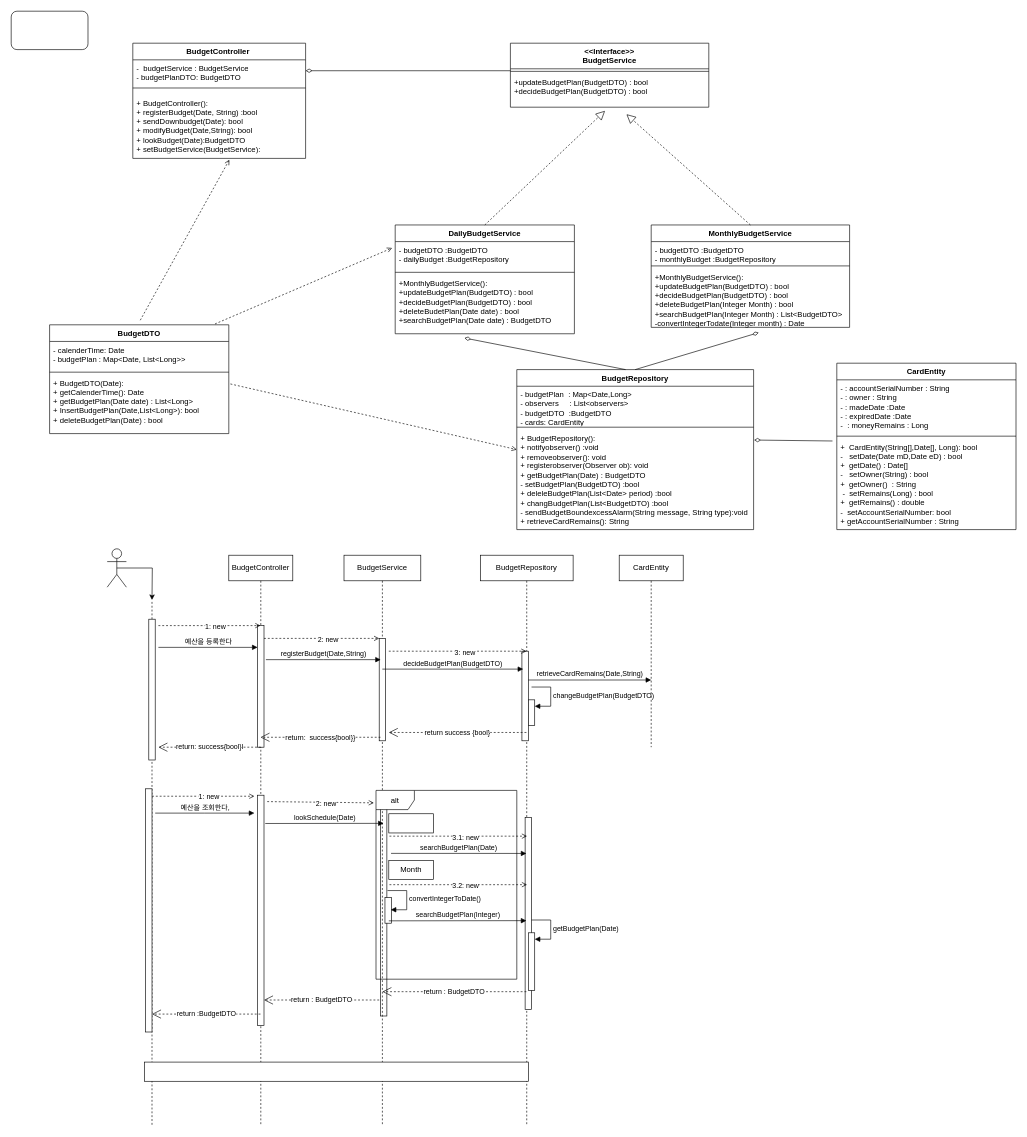
The diagram is 1027 pixels wide and 1137 high, and some of its shapes have lost their labels. Here are the shapes that lost their labels. From the top down, the centre of each, then its label:
[49,30]: 예산 관리
[116,567]: User
[411,823]: Day
[336,1071]: 예산 수정/삭제의 과정도 위와 유사한 과정으로 일어남.
